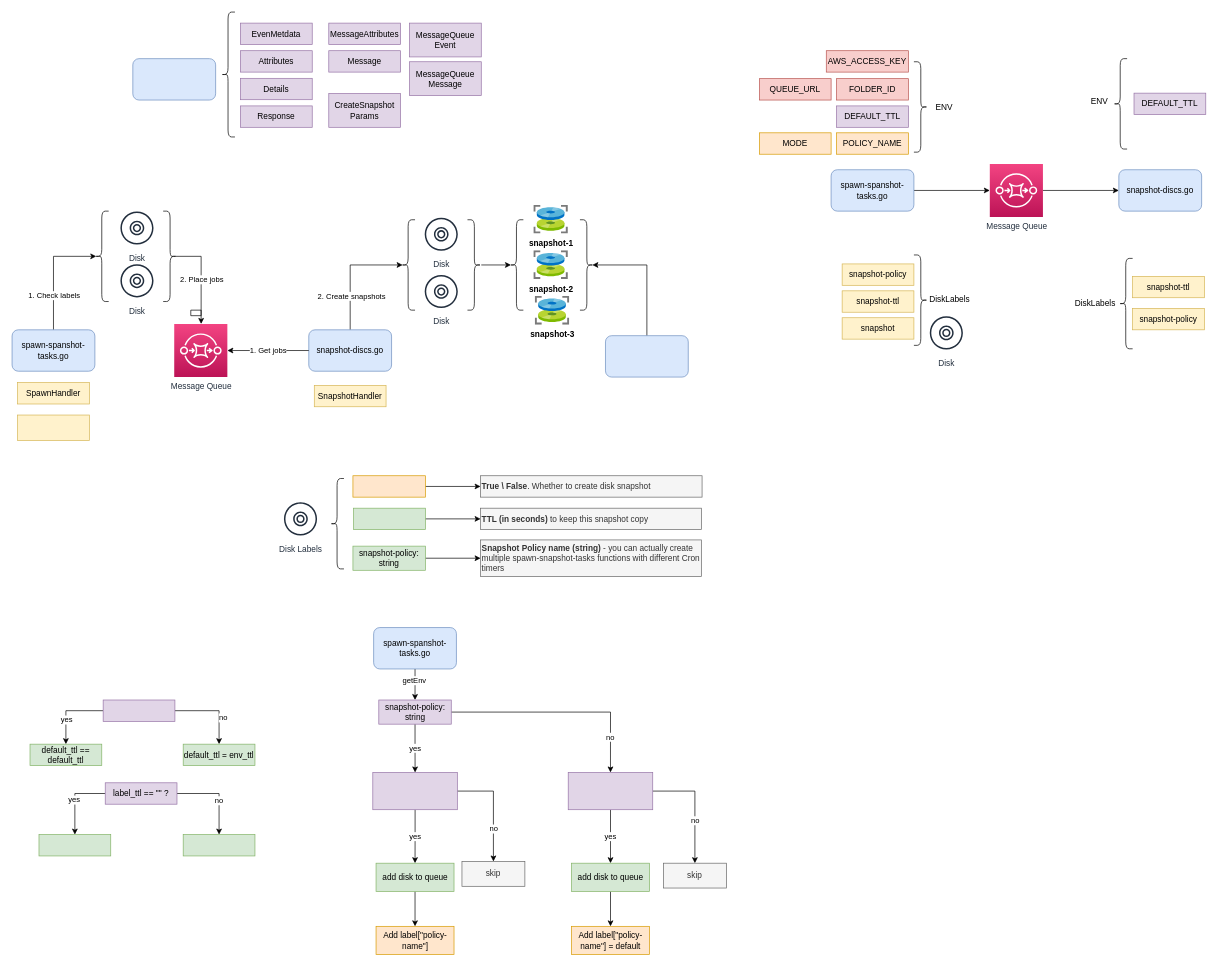
This 1218x967 diagram has some shape labels left out. The box of each missing label's shape, as (x1, y1, x2, y2) in pixels:
construct DiskMessage: (17, 414, 89, 441)
delete-expired.go: (605, 335, 688, 377)
env_ttl == "" ?: (102, 699, 175, 721)
labels["policy-name"] == "": (568, 772, 653, 810)
models.go: (132, 58, 216, 100)
policyName == labels["policy-name"]: (372, 772, 457, 810)
snapshot-ttl: int: (353, 507, 425, 530)
snapshot: bool: (352, 475, 425, 497)
ttl = label_ttl: (183, 834, 255, 856)
ttl == default_ttl: (38, 834, 111, 856)
